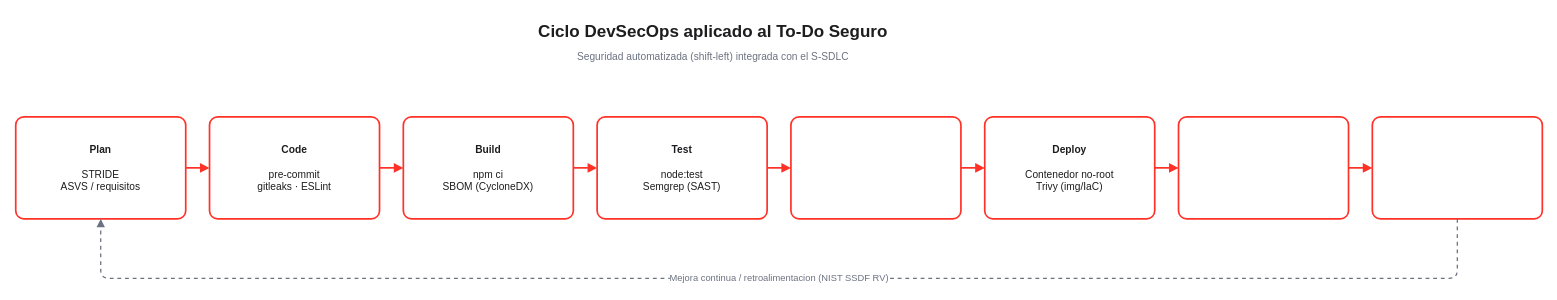
The diagram is 1557 pixels wide and 300 high, and some of its shapes have lost their labels. The shapes that lost their labels are listed below. From the top down, each one's centre as x and y in pixels, then its label:
At [875,167]: "Release npm audit CodeQL".
At [1263,167]: "Operate Healthcheck logs pino".
At [1457,167]: "Monitor OWASP ZAP Dependabot".
